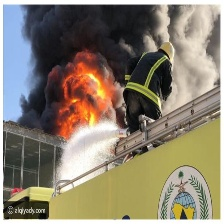fire: (55, 58, 112, 141)
smoke: (15, 3, 220, 115)
